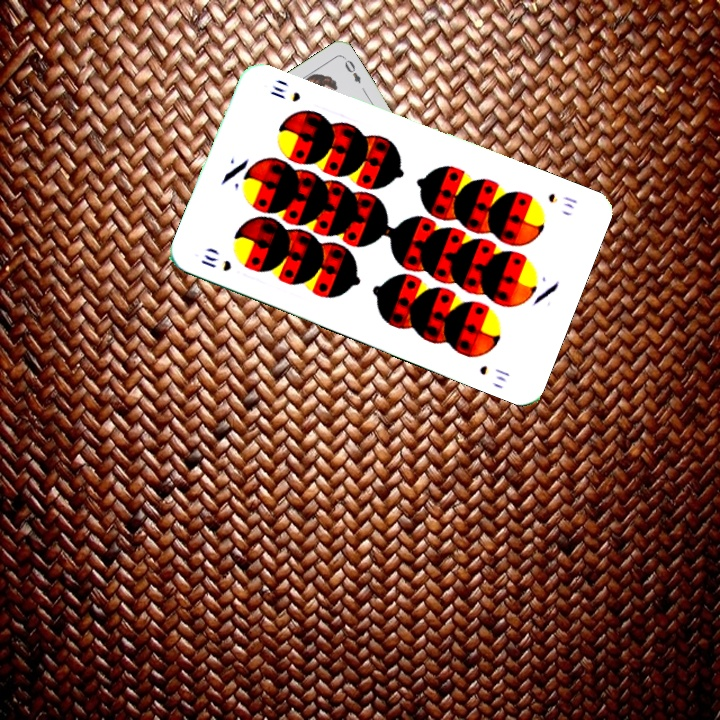S10: (196, 250, 235, 274), (544, 189, 580, 212)
